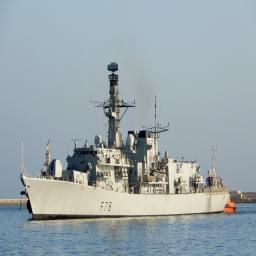Fragata: (22, 62, 232, 222)
